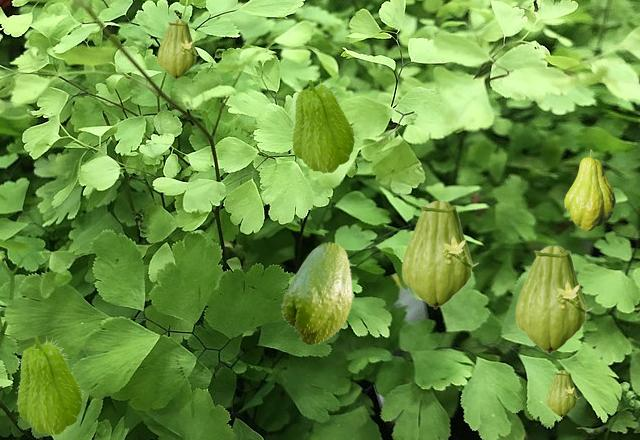sayote: (515, 245, 592, 353), (401, 200, 478, 308), (280, 242, 352, 345), (15, 335, 83, 434), (290, 78, 355, 172), (564, 149, 614, 230), (157, 19, 199, 78), (546, 370, 579, 416)
